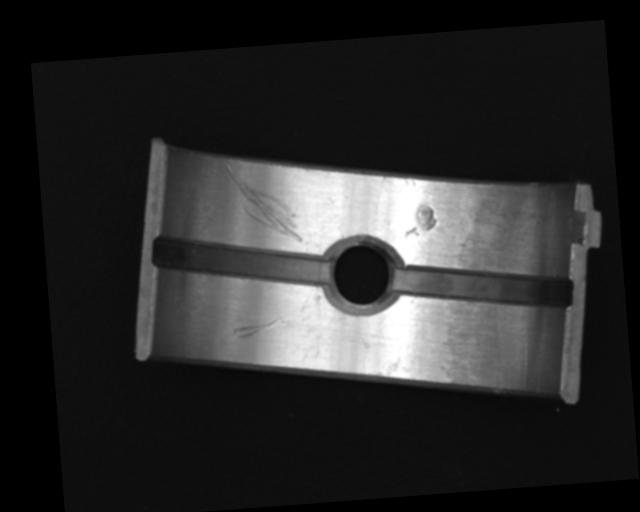bruise: (403, 202, 438, 237)
gap: (151, 225, 331, 297), (393, 258, 573, 320)
hole: (322, 232, 403, 318)
nick: (226, 160, 302, 249), (231, 316, 289, 341)
